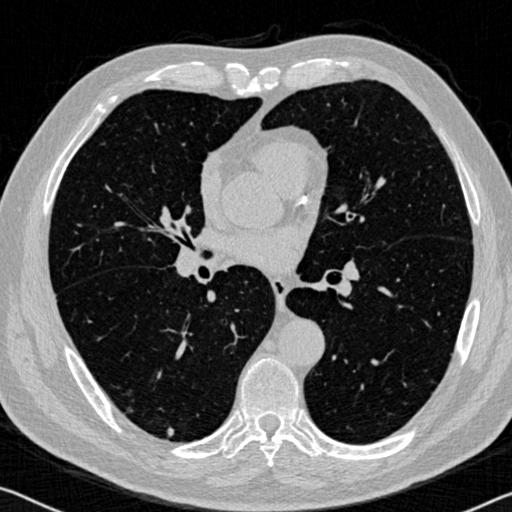nodule: (164, 426, 176, 438)
